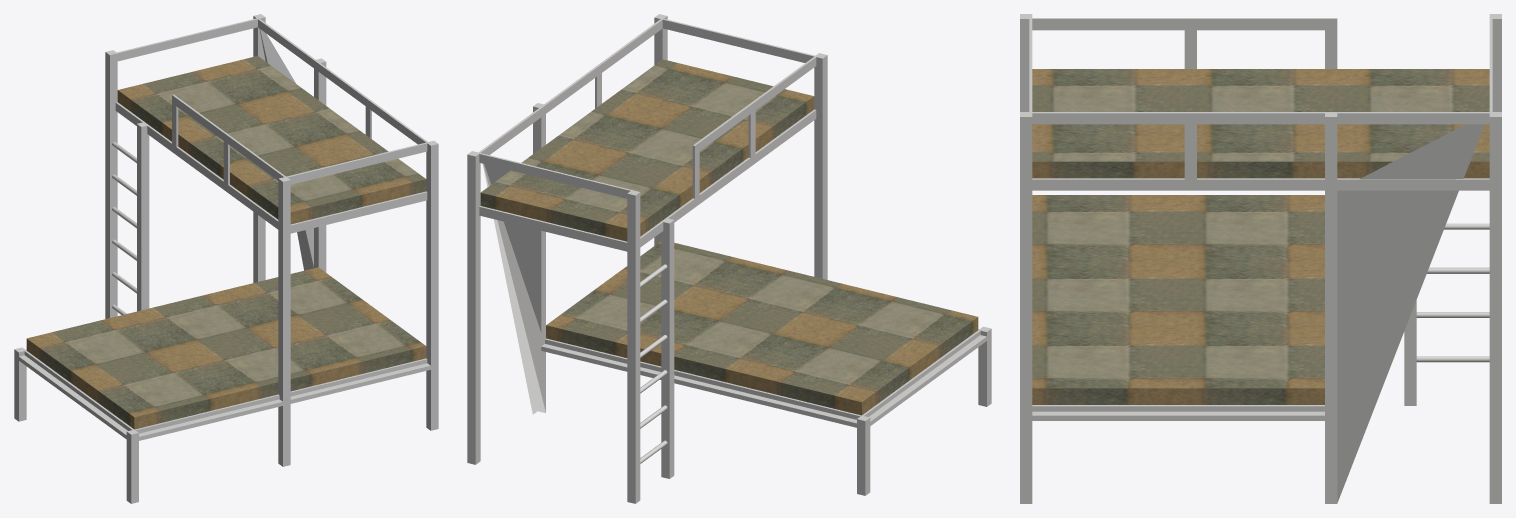
3 views of the same model, side by side, from view 1: azimuth 30°, elevation 25°; view 2: azimuth 150°, elevation 25°; view 3: azimuth 270°, elevation 25° (orthographic). The views are drawn at different scales.
Visible parts, largest first — view 1: mesh1_mesh1-geometry, mesh3_mesh3-geometry, mesh2_mesh2-geometry; view 2: mesh3_mesh3-geometry, mesh1_mesh1-geometry, mesh2_mesh2-geometry; view 3: mesh3_mesh3-geometry, mesh1_mesh1-geometry, mesh2_mesh2-geometry.
Boxes of the visible parts, <box> form: mesh1_mesh1-geometry: <box>26,267,426,429</box>; mesh3_mesh3-geometry: <box>14,14,438,503</box>; mesh2_mesh2-geometry: <box>117,56,426,224</box>; mesh3_mesh3-geometry: <box>467,14,991,503</box>; mesh1_mesh1-geometry: <box>546,241,978,415</box>; mesh2_mesh2-geometry: <box>480,59,814,241</box>; mesh3_mesh3-geometry: <box>1020,14,1501,503</box>; mesh1_mesh1-geometry: <box>1032,195,1324,404</box>; mesh2_mesh2-geometry: <box>1032,69,1489,178</box>.
Size of the model in its own units: 0.5557 by 0.4924 by 0.5557.
Materials: 2 (1 with a texture image).
